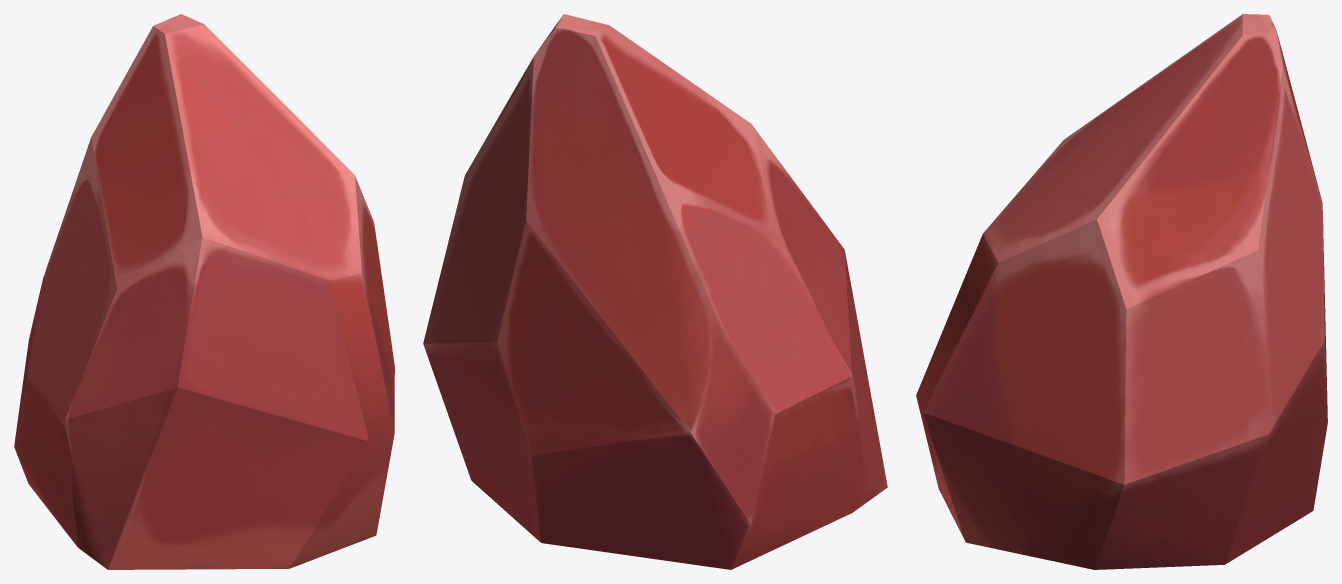
Rendered from SM_Luna_Landing_Rock_1.fbx.
3 renders of one model, left to right at view 1: azimuth 30°, elevation 25°; view 2: azimuth 150°, elevation 25°; view 3: azimuth 270°, elevation 25°, orthographic. The views are drawn at different scales.
Parts seen in each view (by area): view 1: SM_Luna_Landing_Rock_1; view 2: SM_Luna_Landing_Rock_1; view 3: SM_Luna_Landing_Rock_1.
Boxes of the visible parts, left/top/right/bottom form: SM_Luna_Landing_Rock_1: left=14, top=14, right=394, bottom=569; SM_Luna_Landing_Rock_1: left=423, top=14, right=887, bottom=569; SM_Luna_Landing_Rock_1: left=916, top=14, right=1327, bottom=569.
Size of the model in its own units: 2122 by 2650 by 2047.
Materials: 1 (1 with a texture image).
